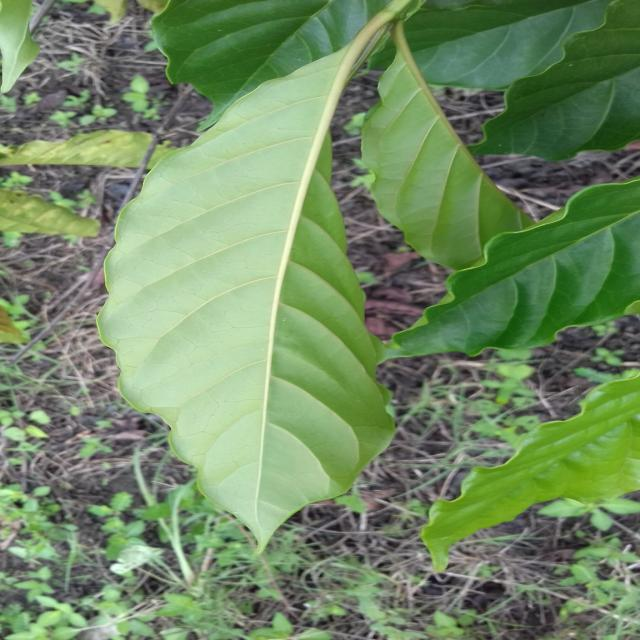Sanas: (96, 31, 397, 531)
